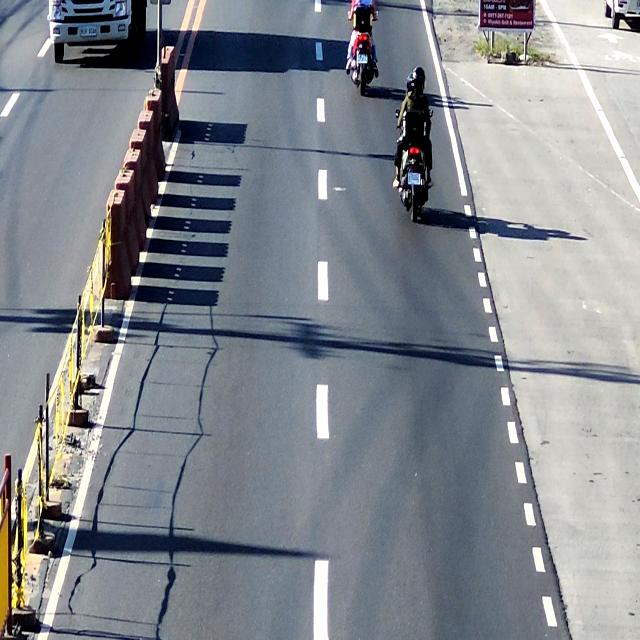License-Plate: (405, 170, 423, 186), (354, 52, 369, 67)
Motorcycle: (394, 62, 438, 231), (348, 0, 379, 94)
